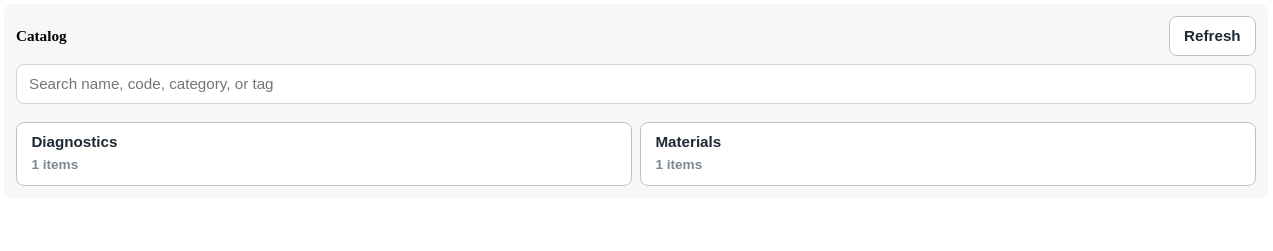
Test: EstimateCatalogPicker › opens one category before adding an item
Click the button "Diagnostics 1 items" at (74,142), box [16,122,632,186]
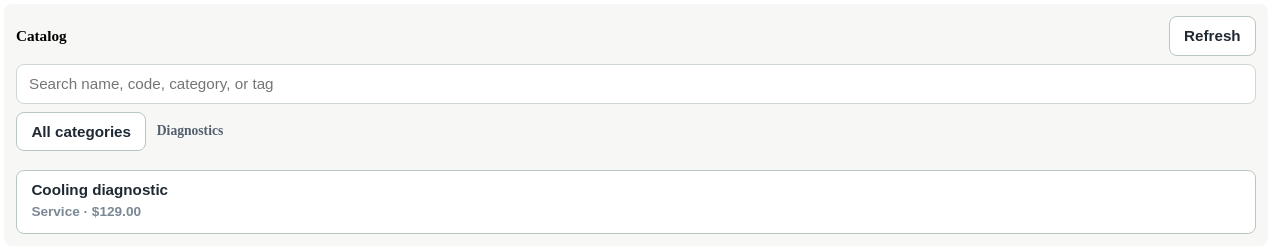
Check: the button "Cooling diagnostic Service · $129.00" is shown, box [16,170,1256,234]
Click the button "All categories" at (81,132), box [16,112,146,151]
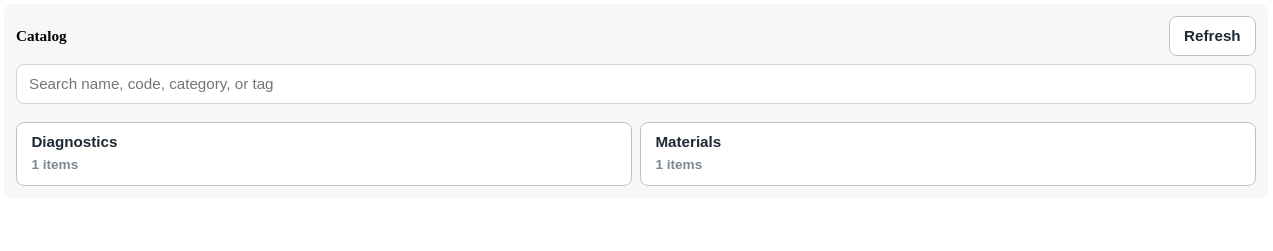
Check: the button "Materials 1 items" is shown, box [640,122,1256,186]
